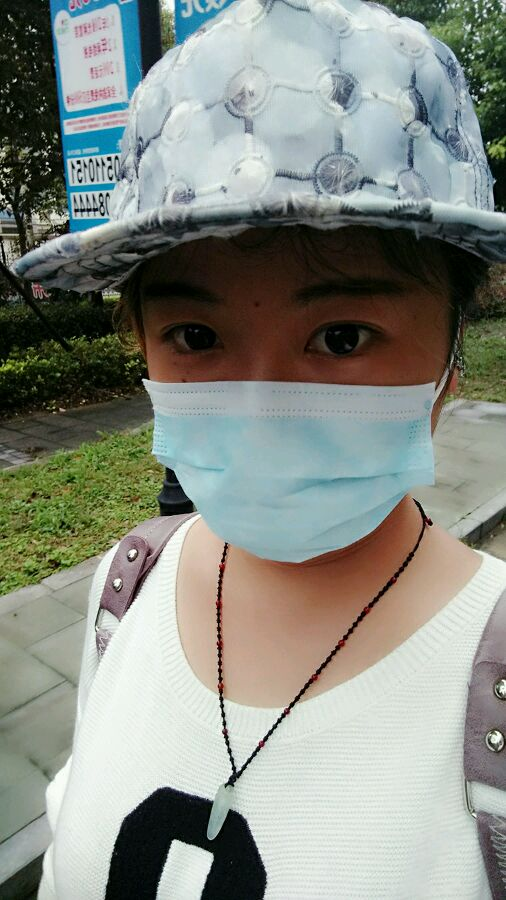face_mask: (129, 121, 438, 650)
